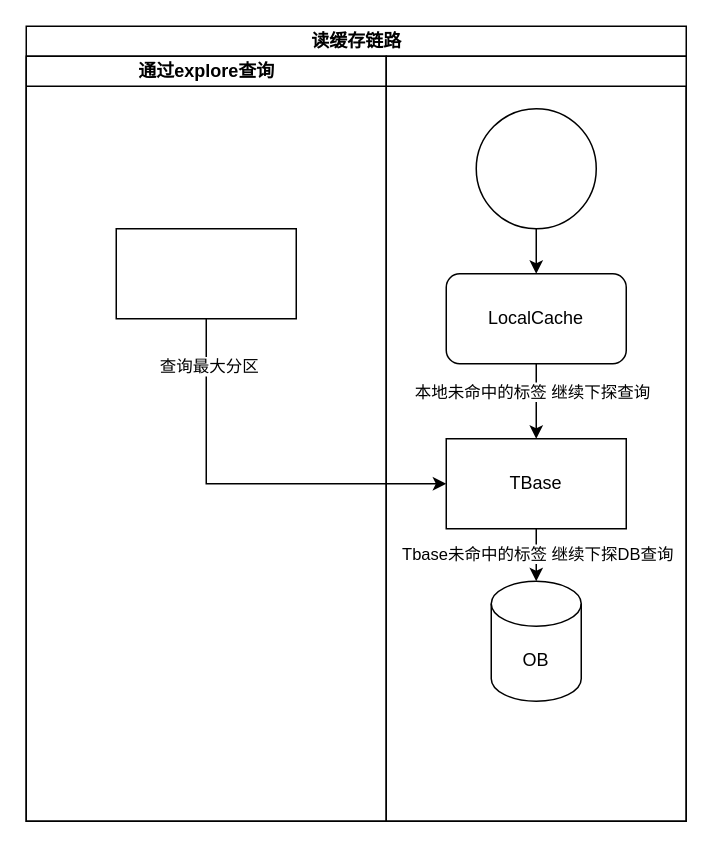
The diagram is 713 pixels wide and 848 high, and some of its shapes have lost their labels. The shapes that lost their labels are listed below. From the top down, each one's box as (x1, y1, x2, y2) in pixels, then its label:
(115, 227, 296, 319): MaxPtCacheManager 服务已经无调用 但是代码还在
(385, 55, 686, 821): 咨询
